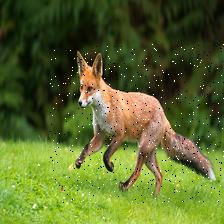fox: (50, 44, 224, 203)
